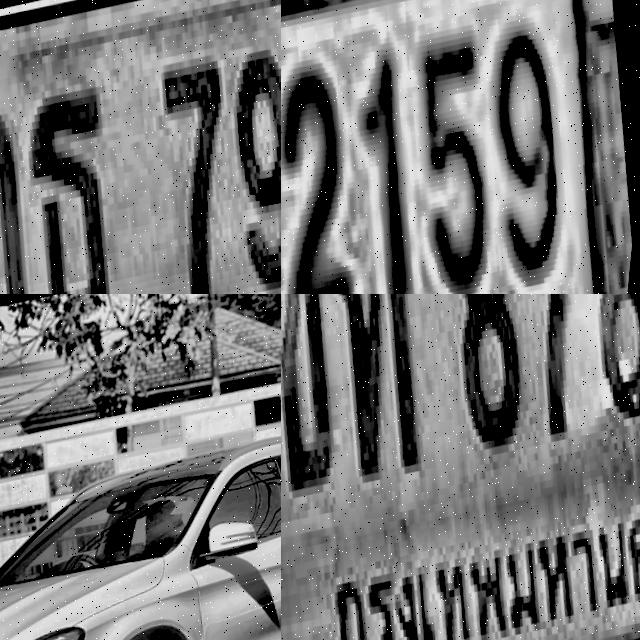license-plate: (281, 294, 640, 640), (281, 0, 640, 294), (0, 0, 281, 294)
